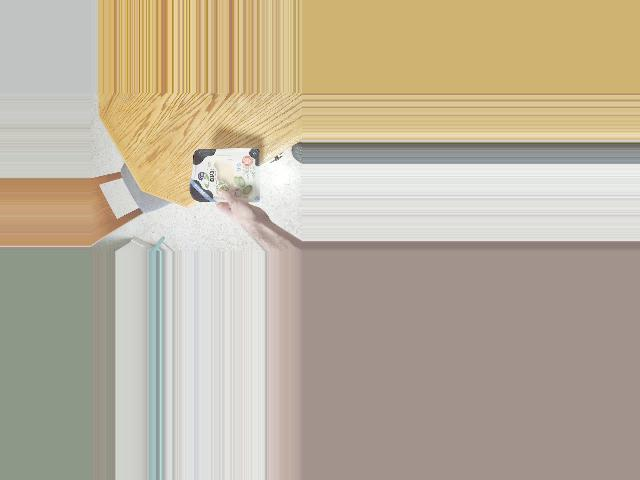cheese: (189, 149, 264, 206)
